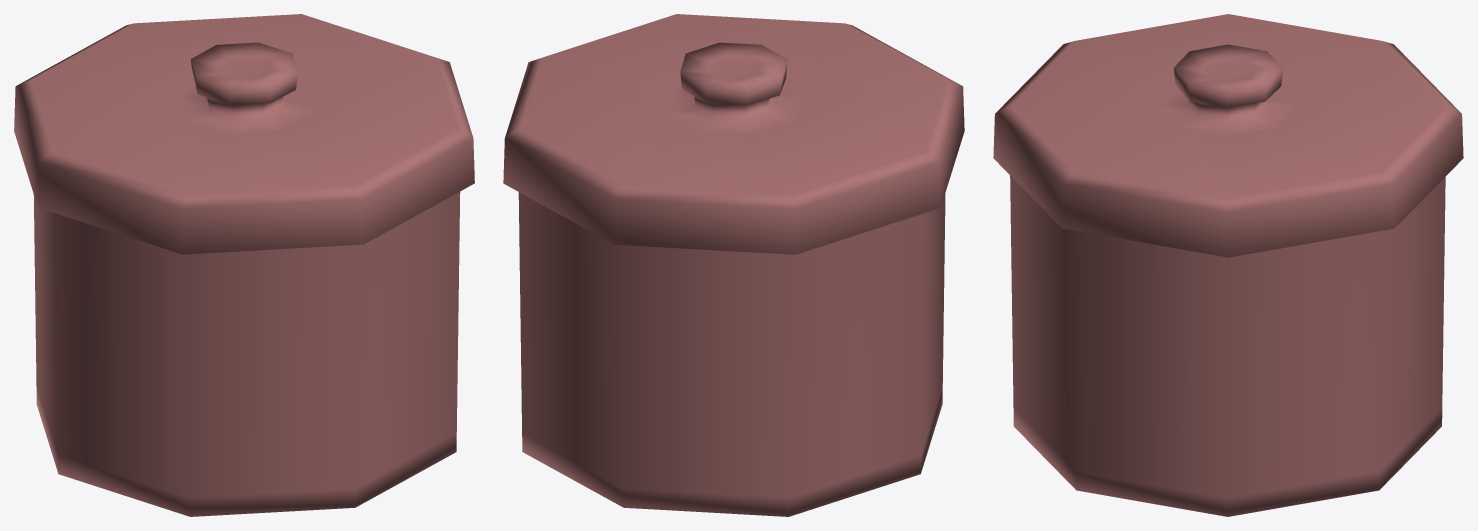
The model's file is Rice.fbx.
3 renders of one model, left to right at view 1: azimuth 30°, elevation 25°; view 2: azimuth 150°, elevation 25°; view 3: azimuth 270°, elevation 25°, orthographic.
Parts seen in each view (by area): view 1: Rice_01, Rice_02; view 2: Rice_01, Rice_02; view 3: Rice_01, Rice_02.
Boxes of the visible parts, x1,y1,x2,y2 form: Rice_01: (33, 191, 460, 516); Rice_02: (14, 14, 474, 254); Rice_01: (518, 192, 945, 516); Rice_02: (503, 14, 964, 254); Rice_01: (1010, 175, 1445, 516); Rice_02: (993, 14, 1463, 257).
Size of the model in its own units: 1.49 by 1.28 by 1.49.
